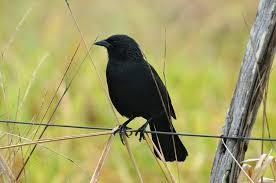grauna: (91, 32, 191, 163)
